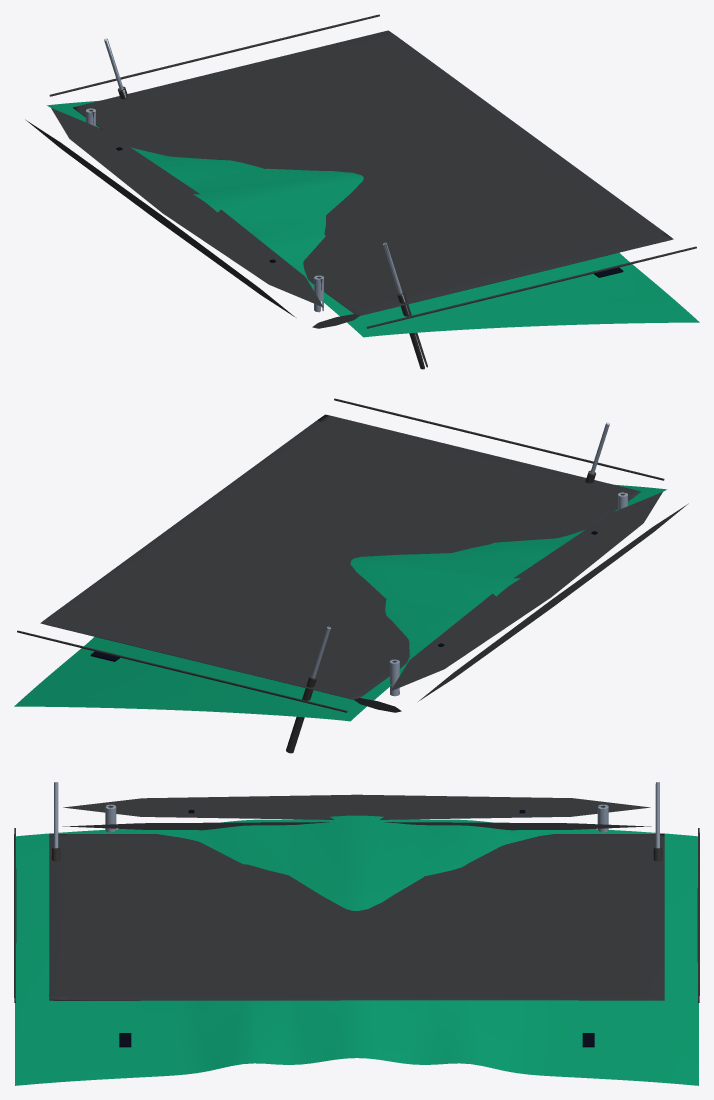
File: ford_escort_rs_cosworth_hood_closed.glb
3 renders of one model, top to bottom at view 1: azimuth 30°, elevation 25°; view 2: azimuth 150°, elevation 25°; view 3: azimuth 270°, elevation 25°, orthographic. The views are drawn at different scales.
Visible parts, largest first — view 1: Block04_ProductionSculptedHood; view 2: Block04_ProductionSculptedHood; view 3: Block04_ProductionSculptedHood.
Boxes of the visible parts, <box> form: Block04_ProductionSculptedHood: <box>25,14,699,369</box>; Block04_ProductionSculptedHood: <box>14,398,688,753</box>; Block04_ProductionSculptedHood: <box>14,782,699,1085</box>.
Bounding box in the file's own units: 0.8599 × 0.2967 × 1.24.
